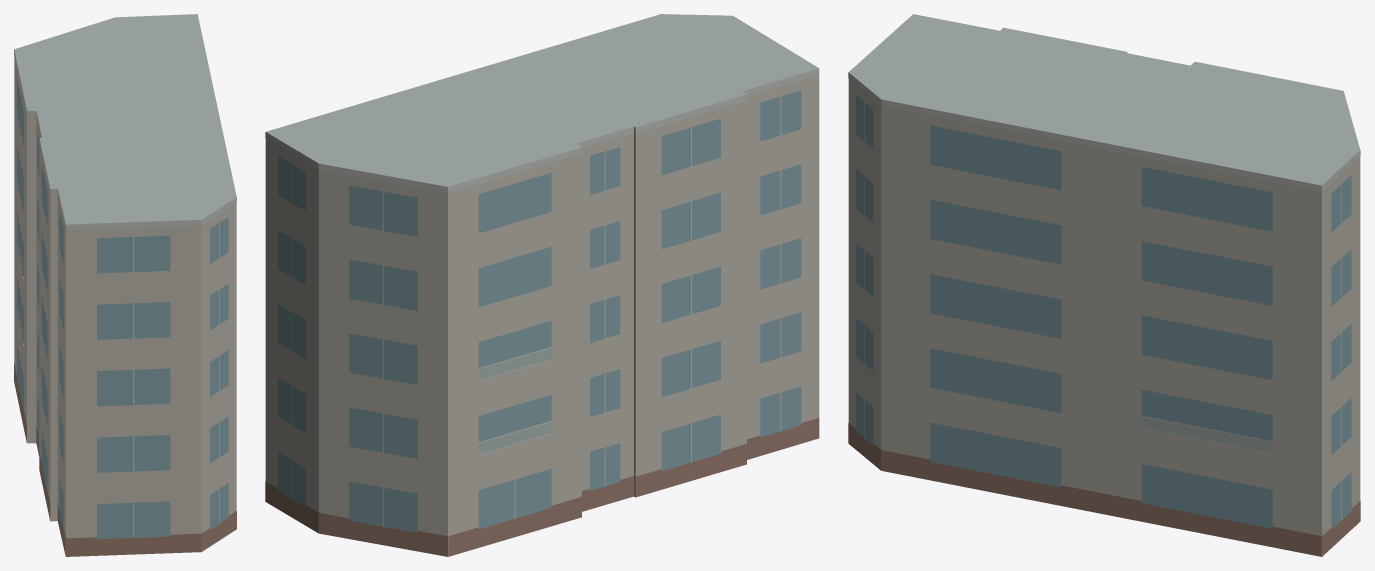
Rendered from survey-upis-32772559.glb.
3 renders of one model, left to right at view 1: azimuth 30°, elevation 25°; view 2: azimuth 150°, elevation 25°; view 3: azimuth 270°, elevation 25°, orthographic. The views are drawn at different scales.
Parts seen in each view (by area): view 1: survey-upis-32772559.tmp; view 2: survey-upis-32772559.tmp; view 3: survey-upis-32772559.tmp.
Part boxes in pixels (bbox=[...]): survey-upis-32772559.tmp: bbox=[14, 14, 236, 556]; survey-upis-32772559.tmp: bbox=[265, 14, 819, 556]; survey-upis-32772559.tmp: bbox=[848, 14, 1360, 556].
Bounding box in the file's own units: 14.48 × 14.6 × 18.25.
